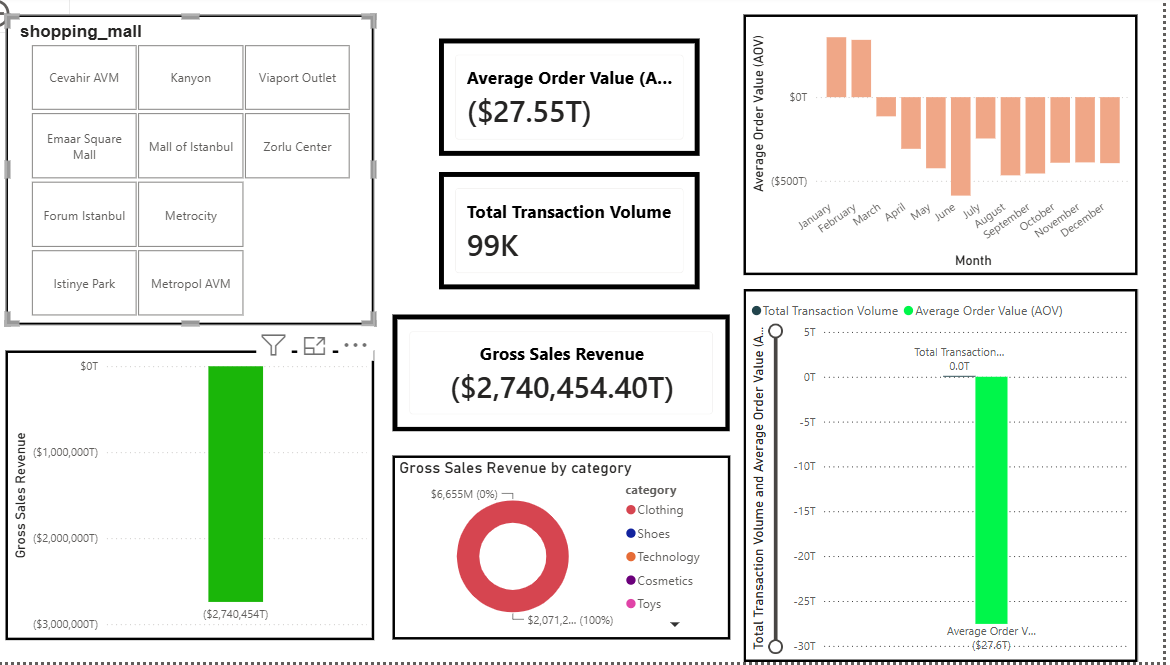

The page's visual inventory and layout, read from the dashboard file:
{"tool":"powerbi","page":{"name":"Page 1","canvas":[1280,720],"ordinal":0},"visuals":[{"type":"clusteredColumnChart","fields":{"Y":["Fact_Sales.Gross Sales Revenue"]},"box":[30.2,408.2,398.7,311.8],"z":0},{"type":"clusteredColumnChart","fields":{"Y":["Fact_Sales.Total Transaction Volume","Fact_Sales.Average Order Value (AOV)"]},"box":[827.7,317.5,425.2,402.5],"z":1000},{"type":"clusteredColumnChart","fields":{"Y":["Fact_Sales.Average Order Value (AOV)"],"Category":["Fact_Sales.invoice_date.Variation.Date Hierarchy.Month"]},"box":[827.7,20.8,425.2,281.6],"z":2000},{"type":"actionButton","box":[0,0,100,40],"z":3000},{"type":"donutChart","fields":{"Category":["Dim_Product.category"],"Y":["Fact_Sales.Gross Sales Revenue"]},"box":[447.9,497,364.7,198.4],"z":4000},{"type":"slicer","fields":{"Values":["Dim_Mall.shopping_mall"]},"box":[30.2,47.2,398.7,334.5],"z":5000},{"type":"cardVisual","fields":{"Data":["Fact_Sales.Total Transaction Volume"]},"box":[498.9,190.9,281.6,126.6],"z":6000},{"type":"cardVisual","fields":{"Data":["Fact_Sales.Average Order Value (AOV)"]},"box":[498.9,47.2,281.6,126.6],"z":7000},{"type":"cardVisual","fields":{"Data":["Fact_Sales.Gross Sales Revenue"]},"box":[498.9,345.8,281.6,126.6],"z":8000}]}

Visuals, with their boxes in screenshot pixels (x1, y1, x2, y2), scaled from the page's 1280x720 canvas onto the 1170x665 screenshot:
clusteredColumnChart - Fact_Sales.Gross Sales Revenue: [28,377,392,664]
clusteredColumnChart - Fact_Sales.Total Transaction Volume x Fact_Sales.Average Order Value (AOV): [757,293,1145,664]
clusteredColumnChart - Fact_Sales.Average Order Value (AOV) x Fact_Sales.invoice_date.Variation.Date Hierarchy.Month: [757,19,1145,279]
actionButton: [0,0,91,37]
donutChart - Dim_Product.category x Fact_Sales.Gross Sales Revenue: [409,459,743,642]
slicer - Dim_Mall.shopping_mall: [28,44,392,353]
cardVisual - Fact_Sales.Total Transaction Volume: [456,176,713,293]
cardVisual - Fact_Sales.Average Order Value (AOV): [456,44,713,161]
cardVisual - Fact_Sales.Gross Sales Revenue: [456,319,713,436]
